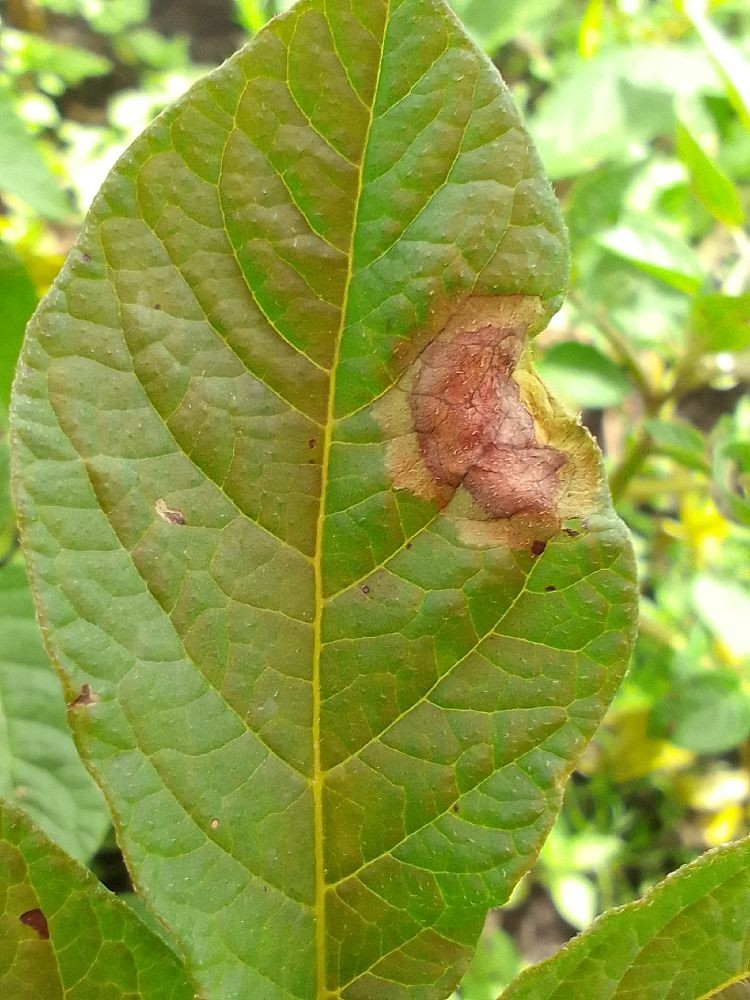late_blight: (126, 61, 412, 941), (283, 752, 488, 1000), (598, 763, 734, 914), (0, 871, 156, 1000)
